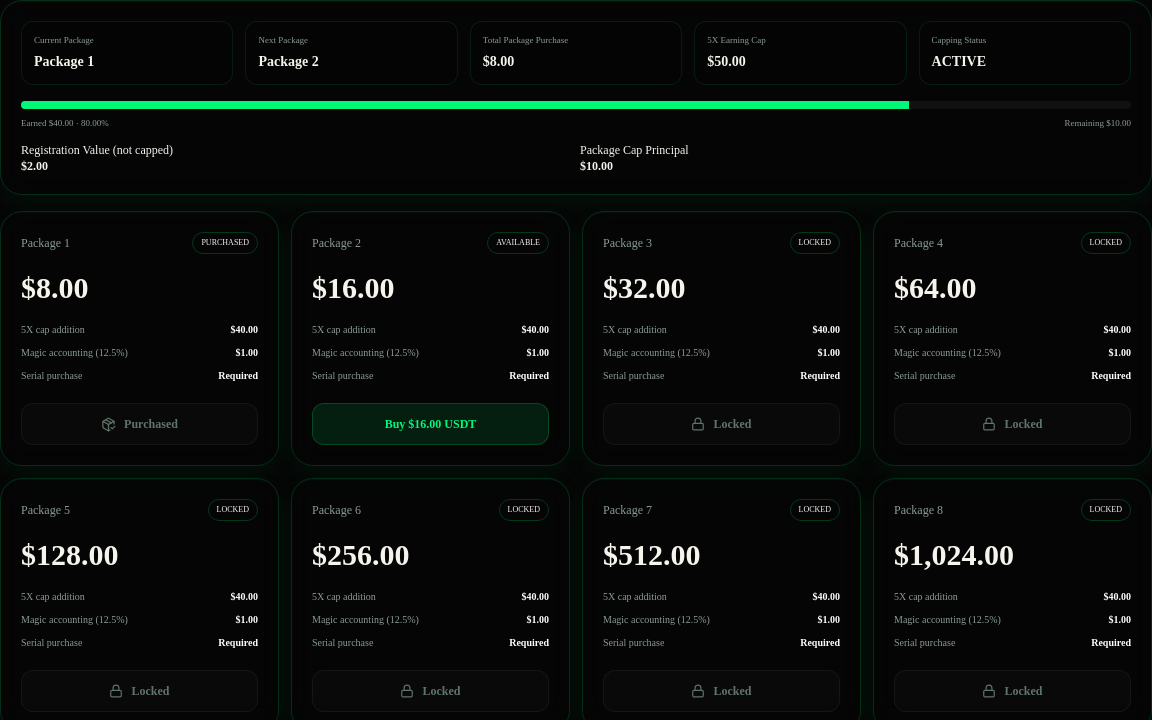
Test: package page serial state › renders a contained safe gas error without raw calldata
The width and height of the screenshot is (1152, 720).
Step 1. Click the button "Buy $16.00 USDT" → (430,424), box [312, 403, 549, 445]
(page scrolled)
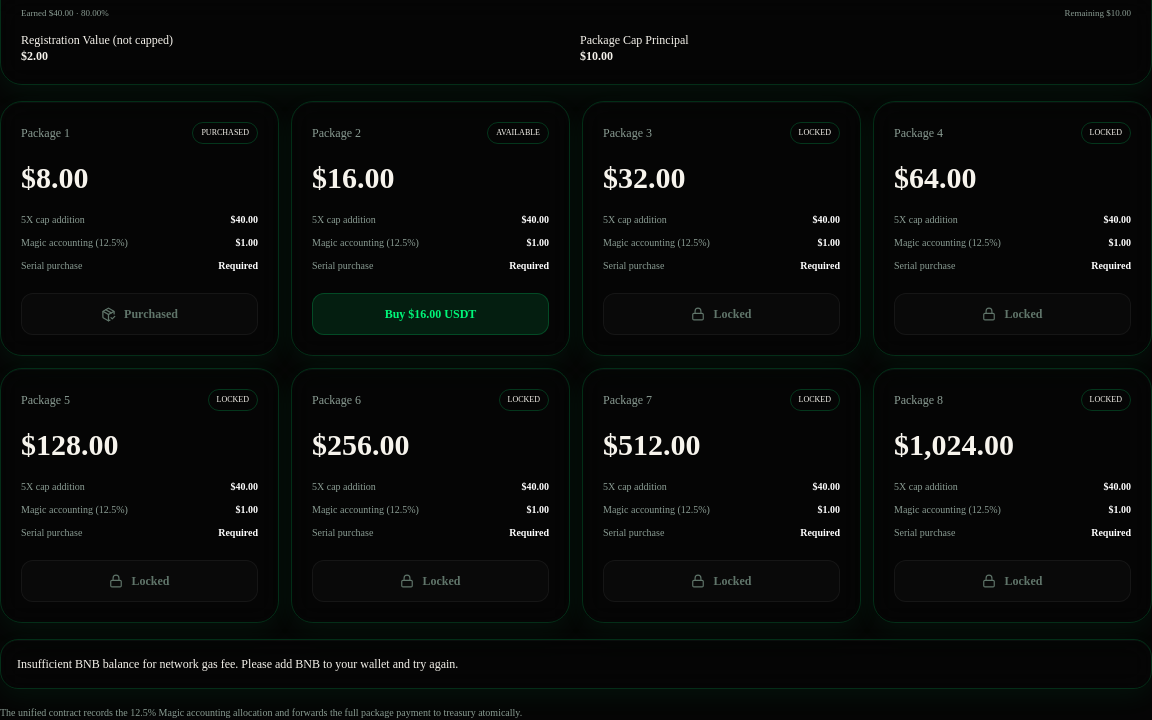
Check: the message shows "Insufficient BNB balance for network gas fee. Please add BNB to your wallet and try again.", box [17, 657, 458, 671]
